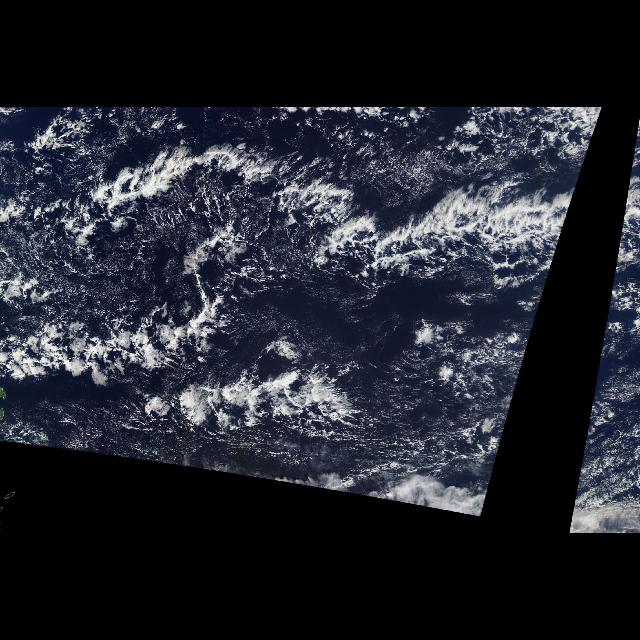Fish: (0, 136, 594, 454), (612, 142, 640, 286)
Gravel: (2, 127, 192, 329), (382, 329, 532, 506), (573, 329, 639, 506)
Sugar: (342, 340, 530, 500), (573, 340, 639, 500)
